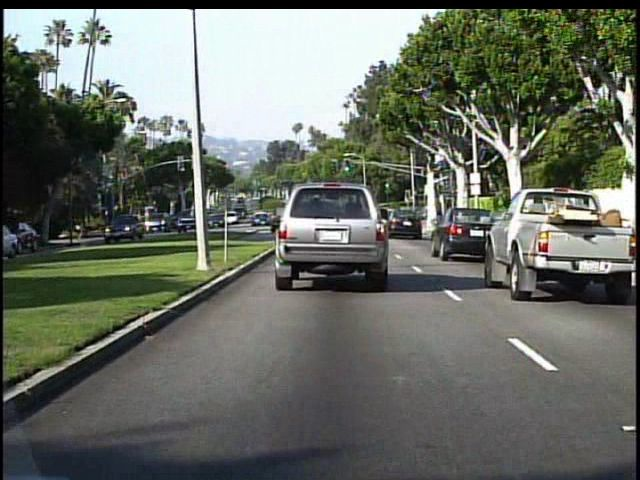person: (76, 222, 82, 241)
